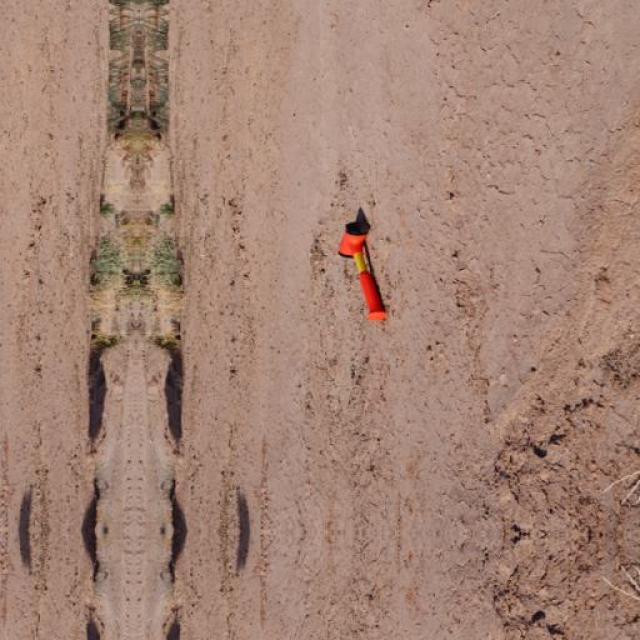mallet: (337, 205, 388, 321)
